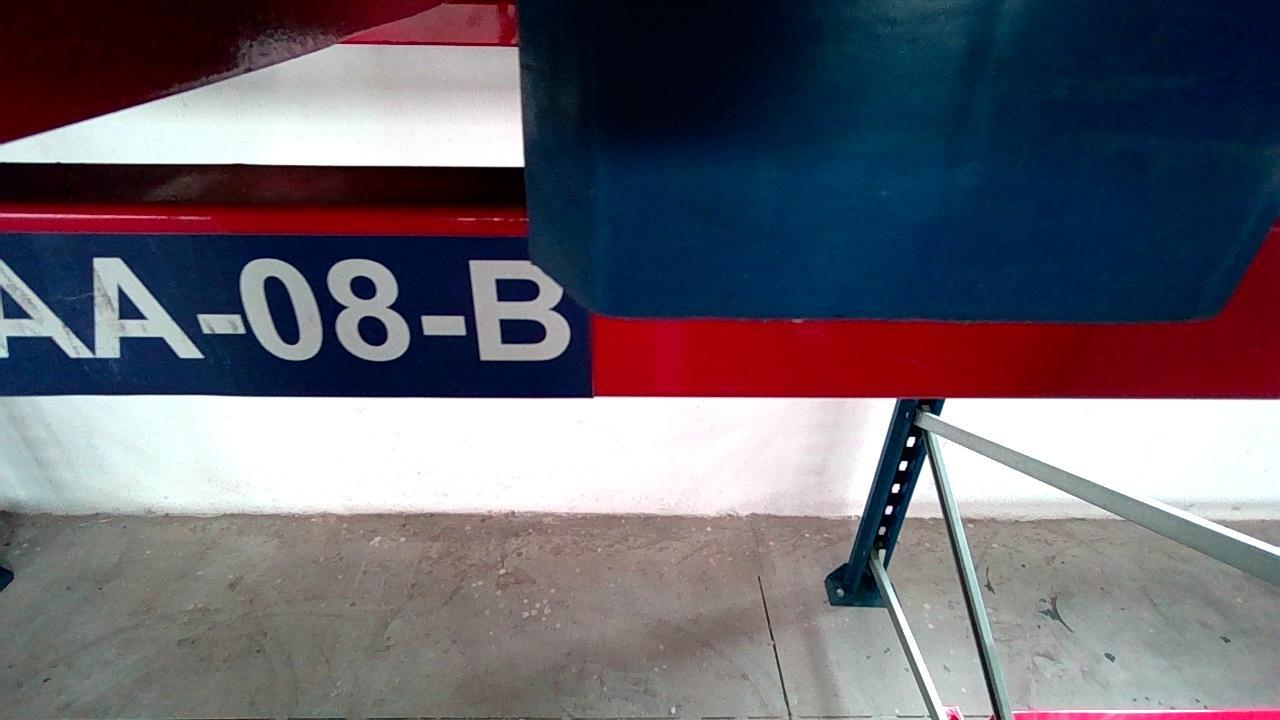h_rack: (1, 222, 1275, 385)
